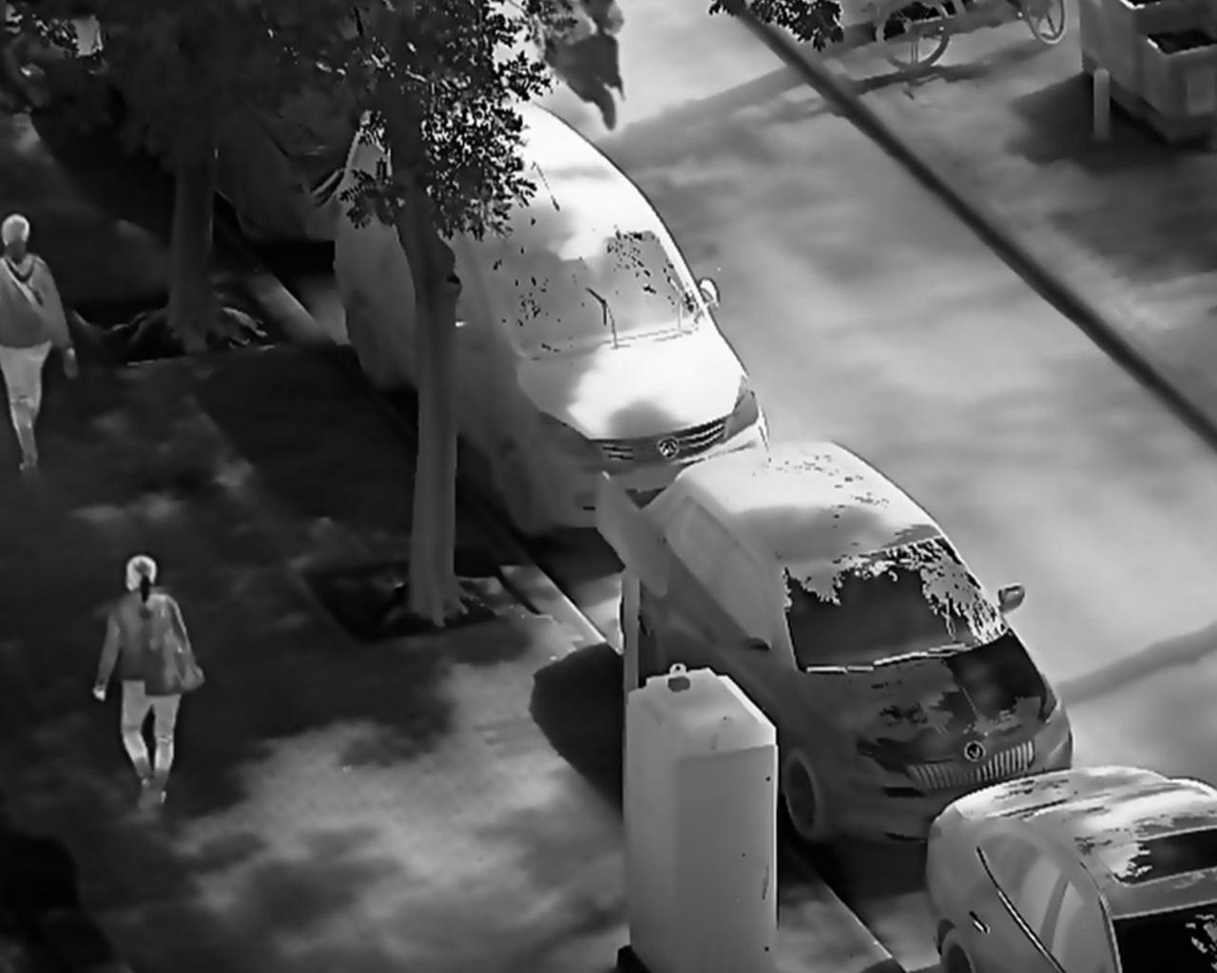person: (87, 550, 211, 824)
